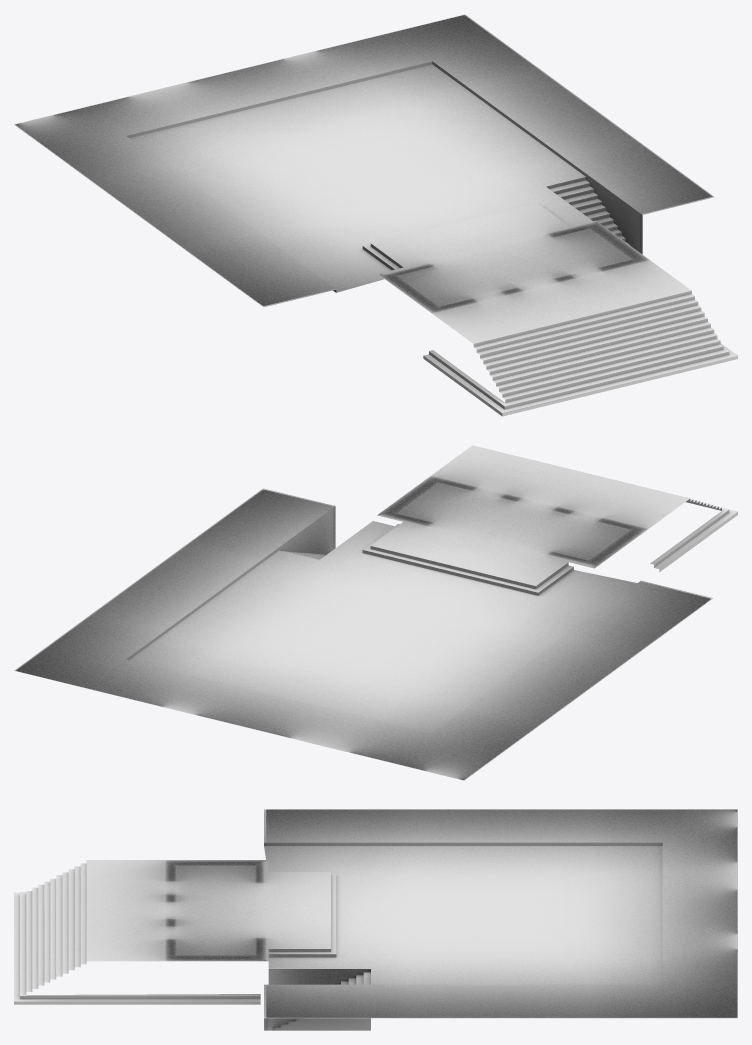
The model's file is propylon-court-floor.glb.
The picture shows the model from 3 angles, top to bottom: view 1: azimuth 30°, elevation 25°; view 2: azimuth 150°, elevation 25°; view 3: azimuth 270°, elevation 25°; orthographic projection. The views are drawn at different scales.
Parts seen in each view (by area): view 1: Treppe; view 2: Treppe; view 3: Treppe.
Boxes of the visible parts, x1,y1,x2,y2 form: Treppe: [14, 14, 737, 416]; Treppe: [14, 445, 737, 780]; Treppe: [14, 809, 737, 1030].
Bounding box in the file's own units: 32.78 × 3.6 × 47.97.
Materials: 1 (1 with a texture image).
